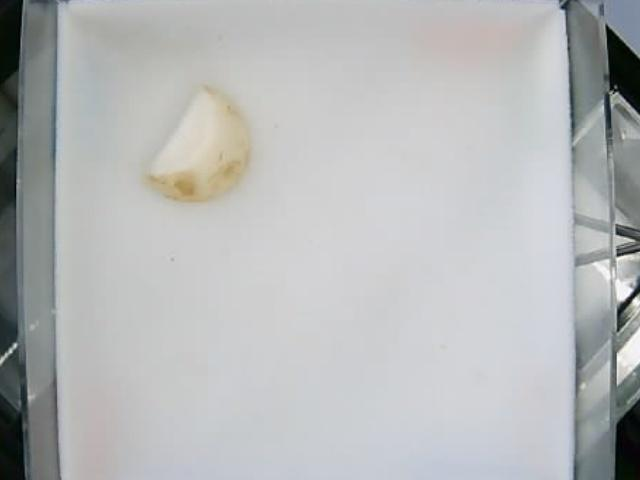Mooli: (145, 83, 250, 203)
